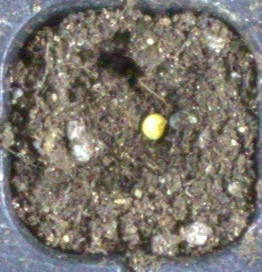pepper seed: (57, 43, 225, 183)
